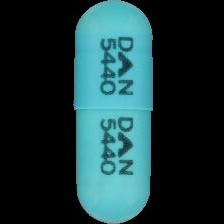54868-0023: (0, 0, 224, 224)
